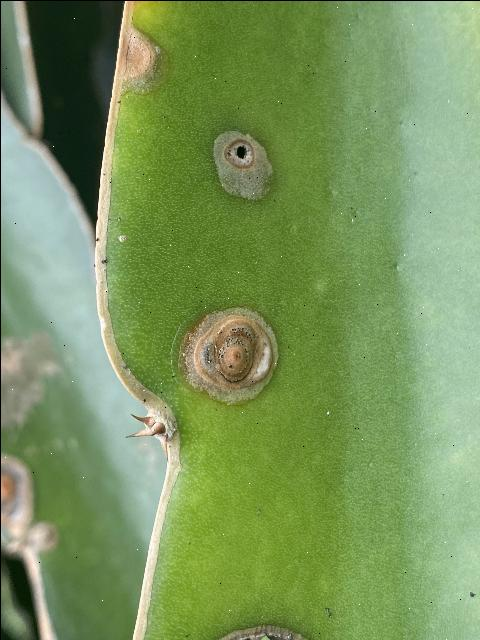stemcanker: (176, 305, 284, 402), (205, 127, 281, 202), (111, 23, 163, 93)
